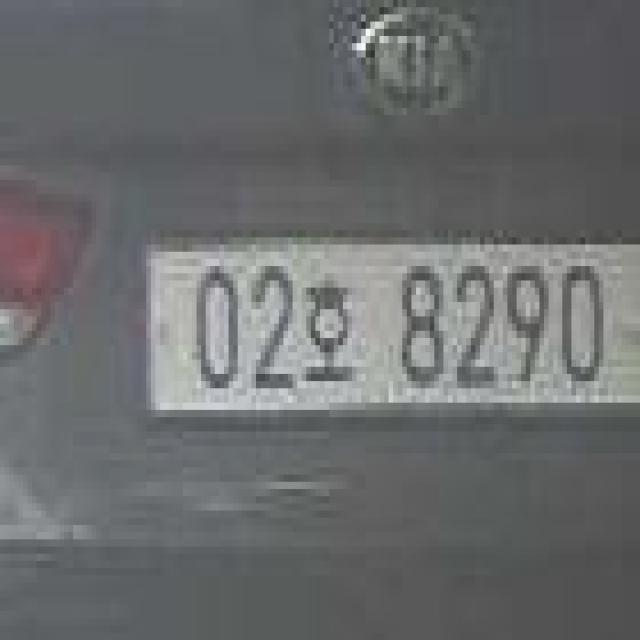illegal_plate: (148, 227, 632, 429)
